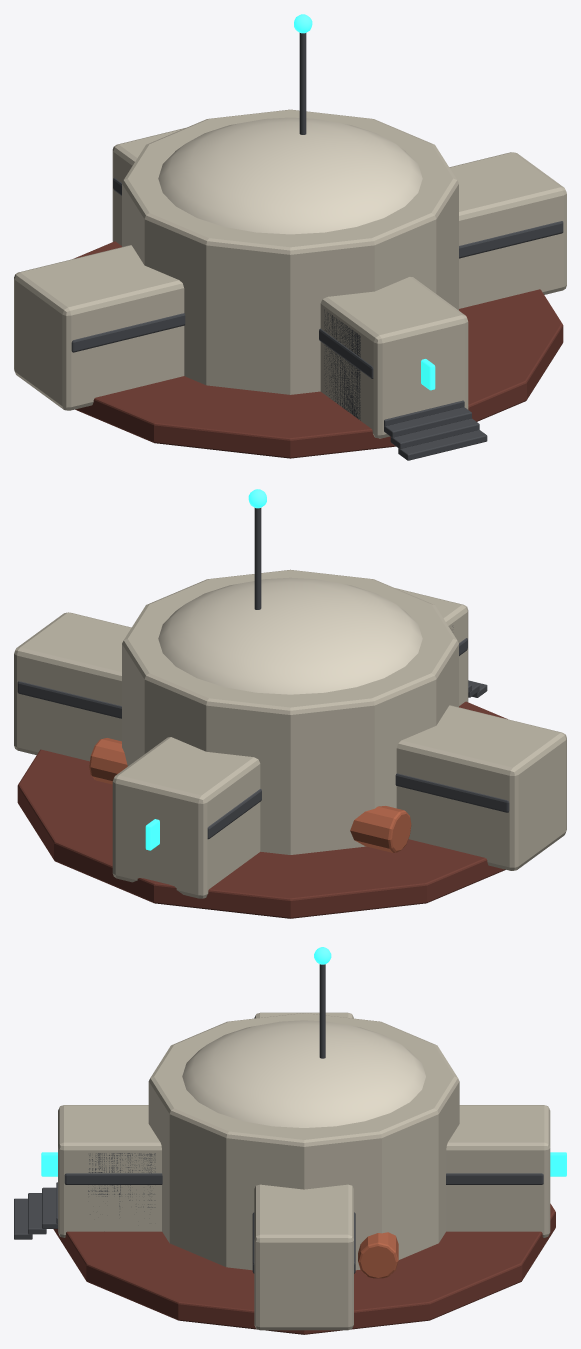
The model's file is frontier-outpost.glb.
3 renders of one model, top to bottom at view 1: azimuth 30°, elevation 25°; view 2: azimuth 150°, elevation 25°; view 3: azimuth 270°, elevation 25°, orthographic. The views are drawn at different scales.
Visible parts, largest first — view 1: frontier-outpost; view 2: frontier-outpost; view 3: frontier-outpost.
Boxes of the visible parts, bbox=[...] form: frontier-outpost: bbox=[14, 14, 566, 460]; frontier-outpost: bbox=[14, 489, 566, 918]; frontier-outpost: bbox=[14, 947, 566, 1334].
Size of the model in its own units: 14.5 by 8.69 by 14.94.
